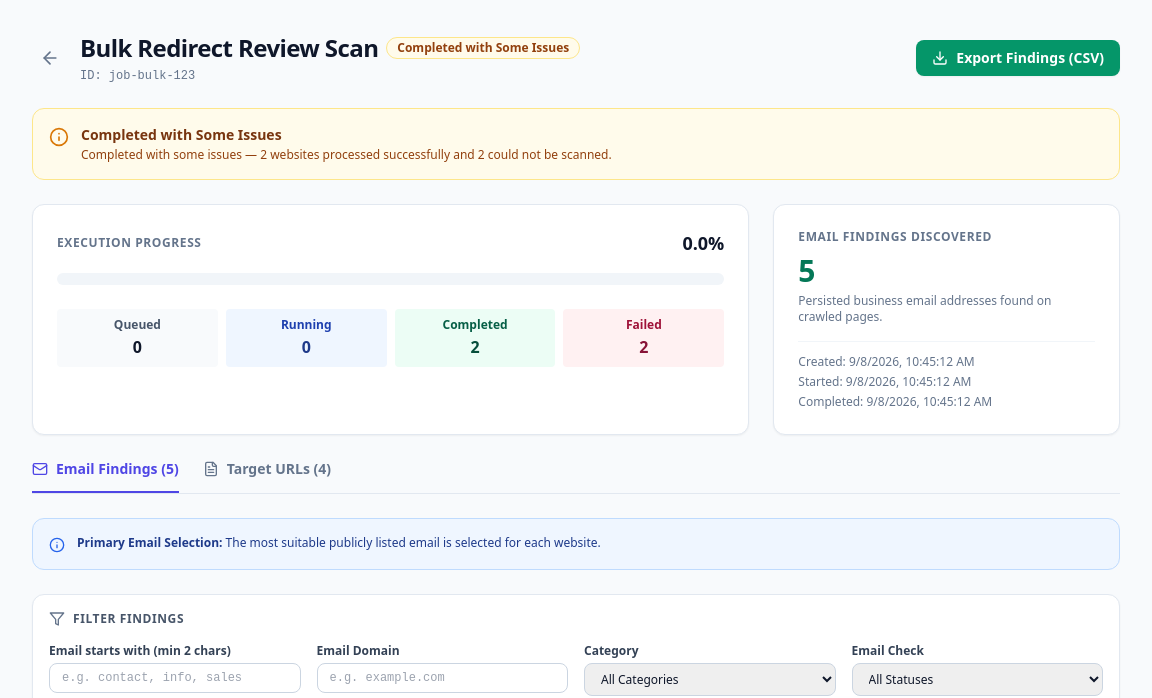
Test: Bulk Redirect Review Web UI › disables background selection controls while confirmation modal is open
Expected: the text "Target URLs (4)" is shown, [227, 459, 331, 479]
Click the button "Target URLs (4)". click: click(267, 476)
box: [203, 459, 331, 493]
(page scrolled)
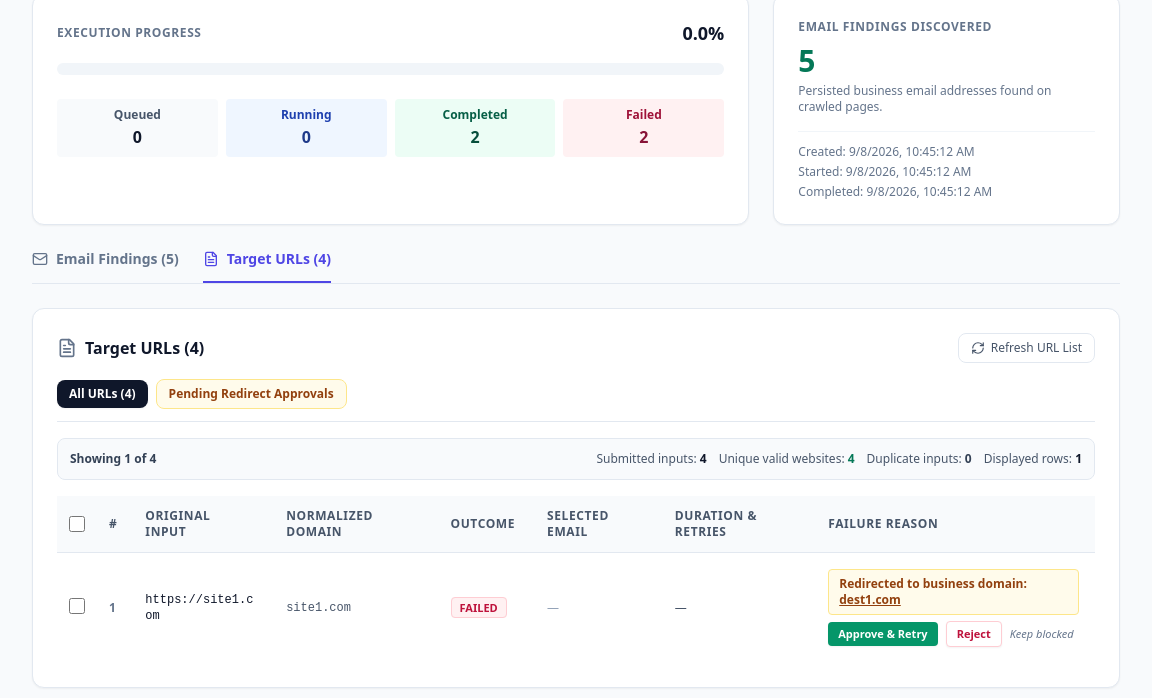
Now the checkbox named "Select redirect for site1.com" is shown
Click the checkbox named "Select redirect for site1.com". click: click(77, 606)
box: [69, 598, 85, 614]
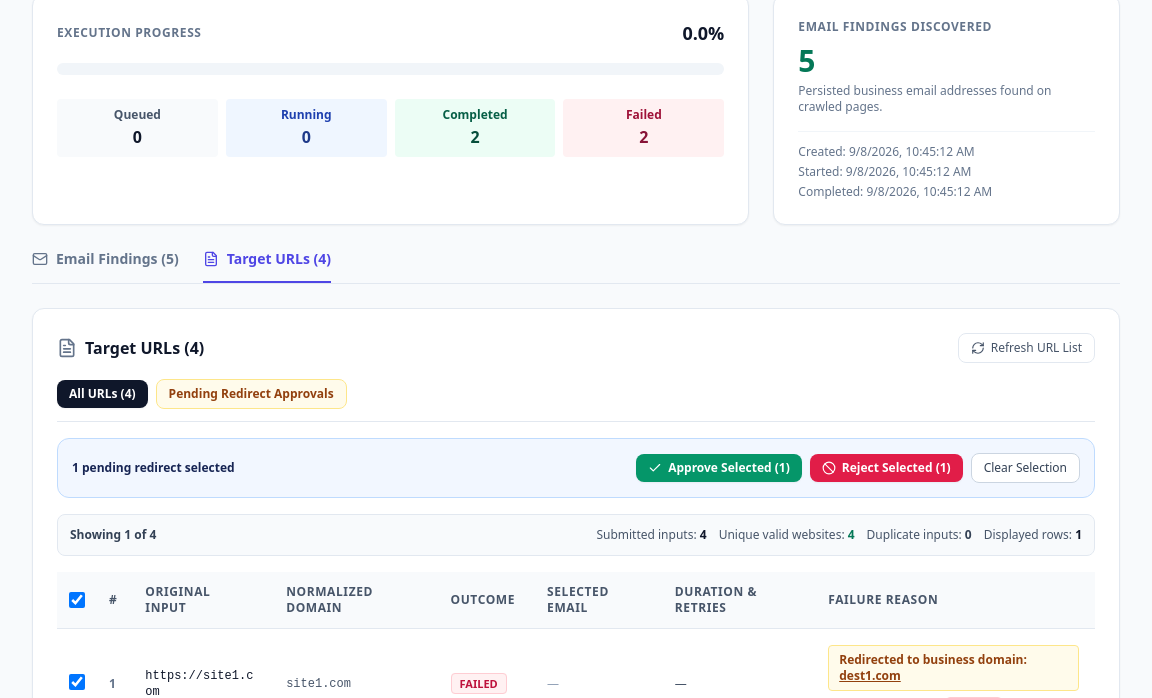
Now the button "Approve Selected (1)" is shown
Click the button "Approve Selected (1)". click: click(719, 468)
box: [636, 454, 802, 482]
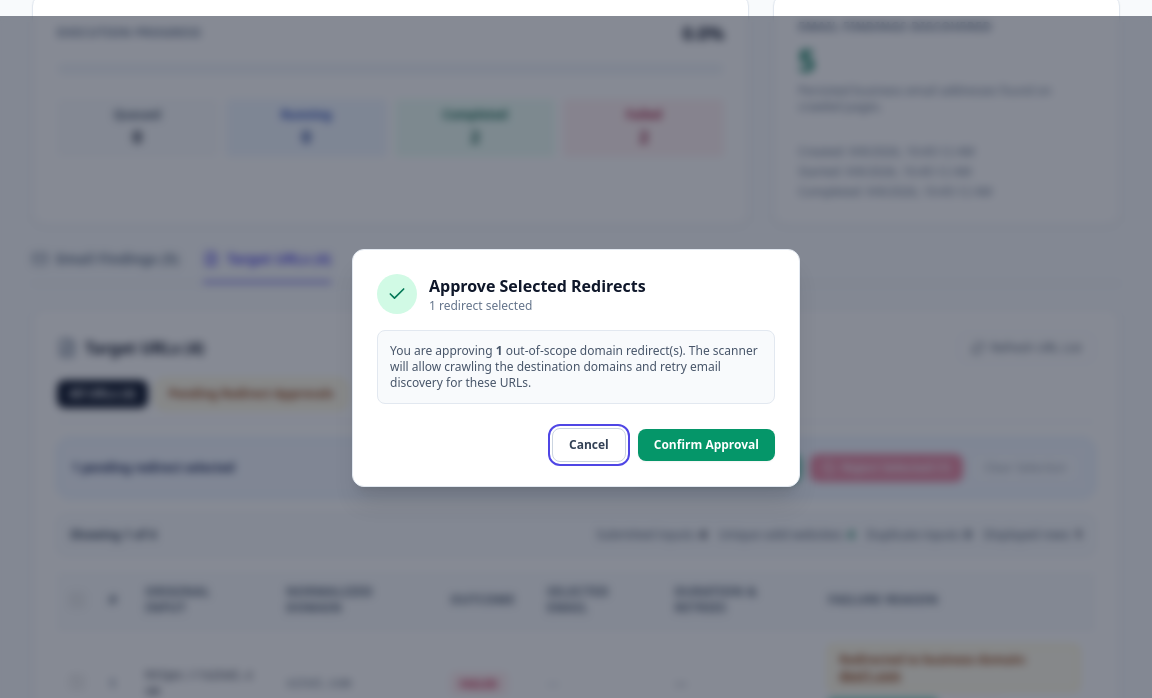
Now the heading "Approve Selected Redirects" is shown, box [429, 274, 646, 298]
